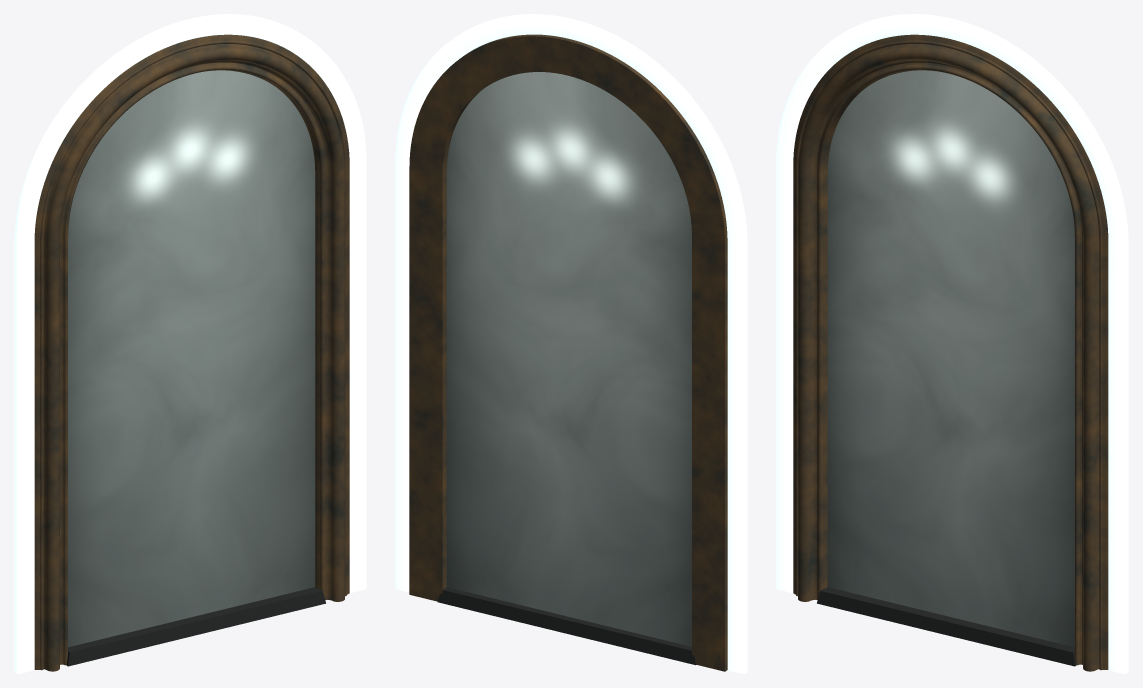
The model's file is portal.glb.
3 renders of one model, left to right at view 1: azimuth 30°, elevation 25°; view 2: azimuth 150°, elevation 25°; view 3: azimuth 330°, elevation 25°, orthographic.
Parts seen in each view (by area): view 1: PortalGlass, PortalFrame, PortalNeon, PortalSill; view 2: PortalGlass, PortalFrame, PortalNeon, PortalSill; view 3: PortalGlass, PortalFrame, PortalNeon, PortalSill.
Part boxes in pixels (box(x1,y1,x2,y2)): PortalGlass: box(68, 70, 315, 647); PortalFrame: box(34, 34, 349, 671); PortalNeon: box(14, 14, 366, 673); PortalSill: box(66, 587, 325, 666); PortalGlass: box(446, 72, 691, 646); PortalFrame: box(409, 34, 727, 671); PortalNeon: box(395, 14, 747, 673); PortalSill: box(437, 587, 696, 665); PortalGlass: box(827, 70, 1074, 647); PortalFrame: box(793, 34, 1108, 671); PortalNeon: box(776, 14, 1128, 673); PortalSill: box(817, 587, 1076, 666).
Size of the model in its own units: 1.59 by 2.64 by 0.104.
4 materials, 1 textured.
